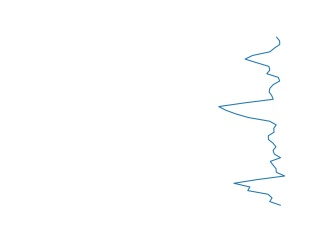underwaterNaturalLevee: (217, 34, 290, 208)
